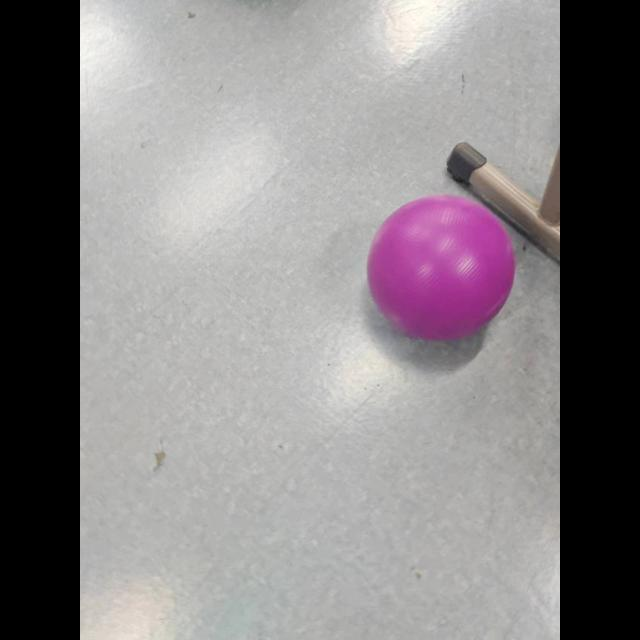P: (364, 190, 516, 340)
